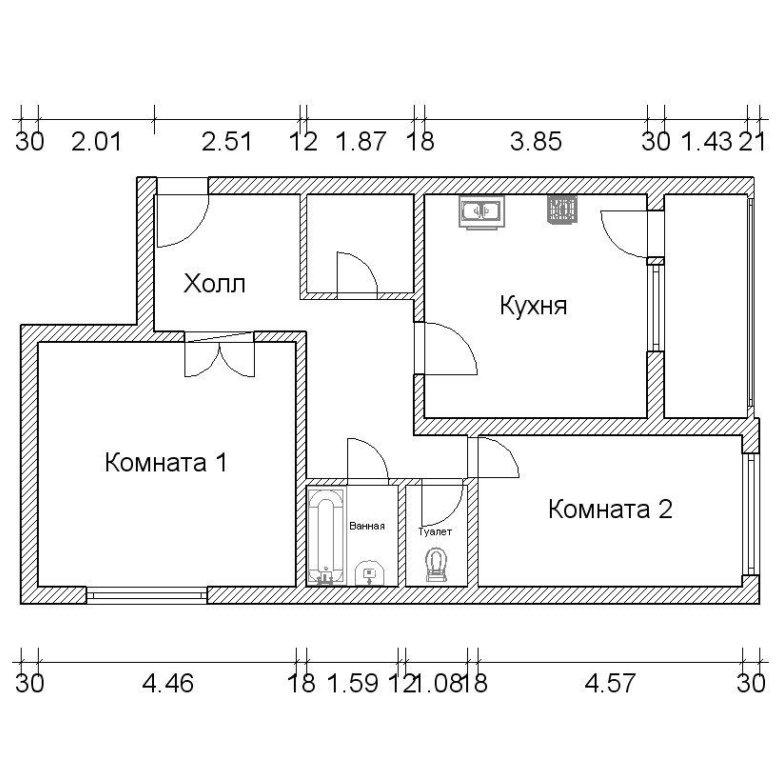balcony: (664, 193, 749, 417)
bathroom: (307, 487, 398, 587)
bedroom: (478, 436, 742, 586)
hallway: (153, 196, 467, 478)
kitchen: (423, 194, 648, 419)
living_room: (39, 343, 298, 587)
toilet: (406, 487, 469, 588)
walk_in_closet: (308, 196, 413, 293)
